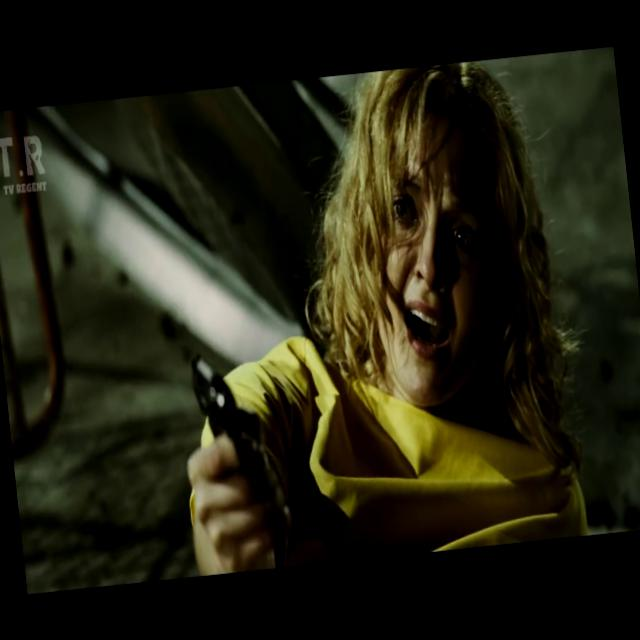handgun: (170, 341, 280, 531)
